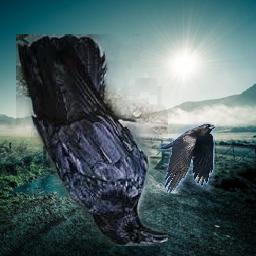Crow: (16, 34, 168, 246), (159, 123, 216, 194)
